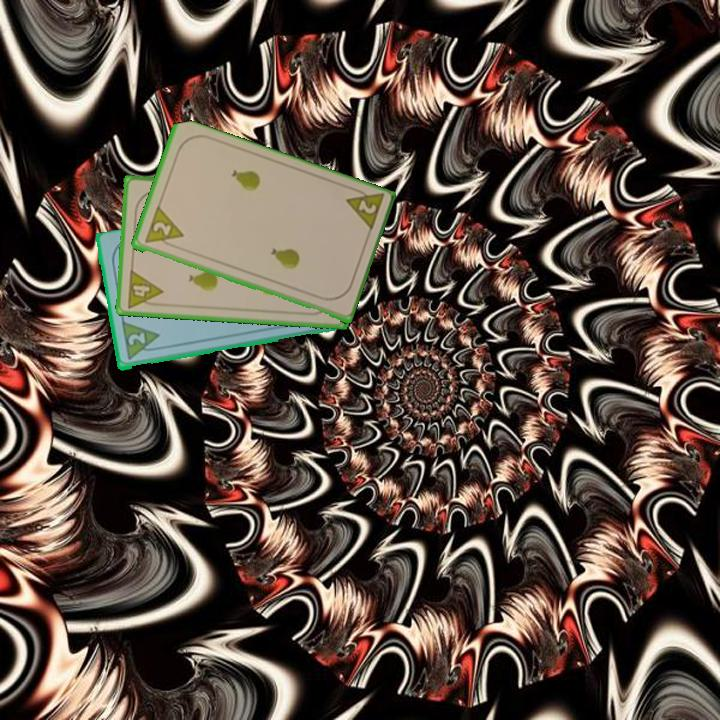2p: (341, 183, 386, 235), (118, 320, 164, 363), (149, 218, 174, 239)
4p: (123, 266, 165, 311)
